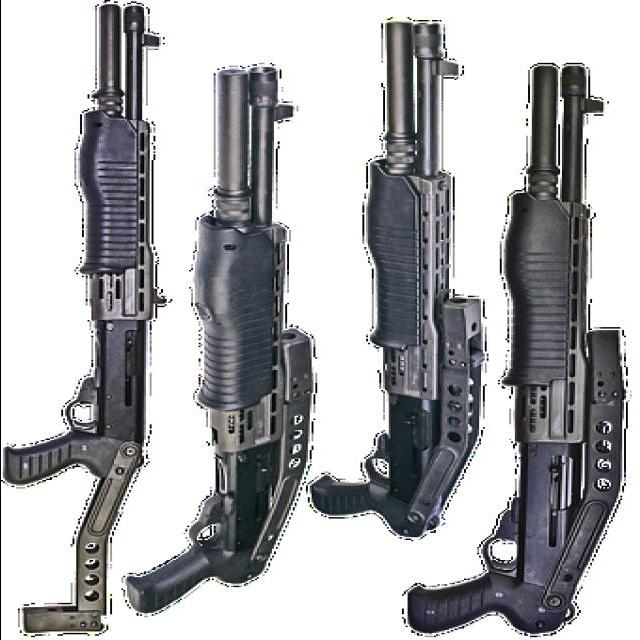shotgun: (388, 56, 633, 640), (311, 15, 482, 545), (160, 33, 312, 622), (14, 9, 155, 632)
